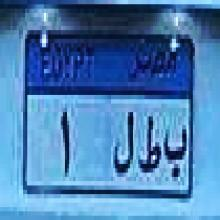1: (56, 102, 74, 180)
Taa: (138, 112, 161, 185)
baa: (162, 120, 187, 182)
laam: (110, 103, 134, 180)
